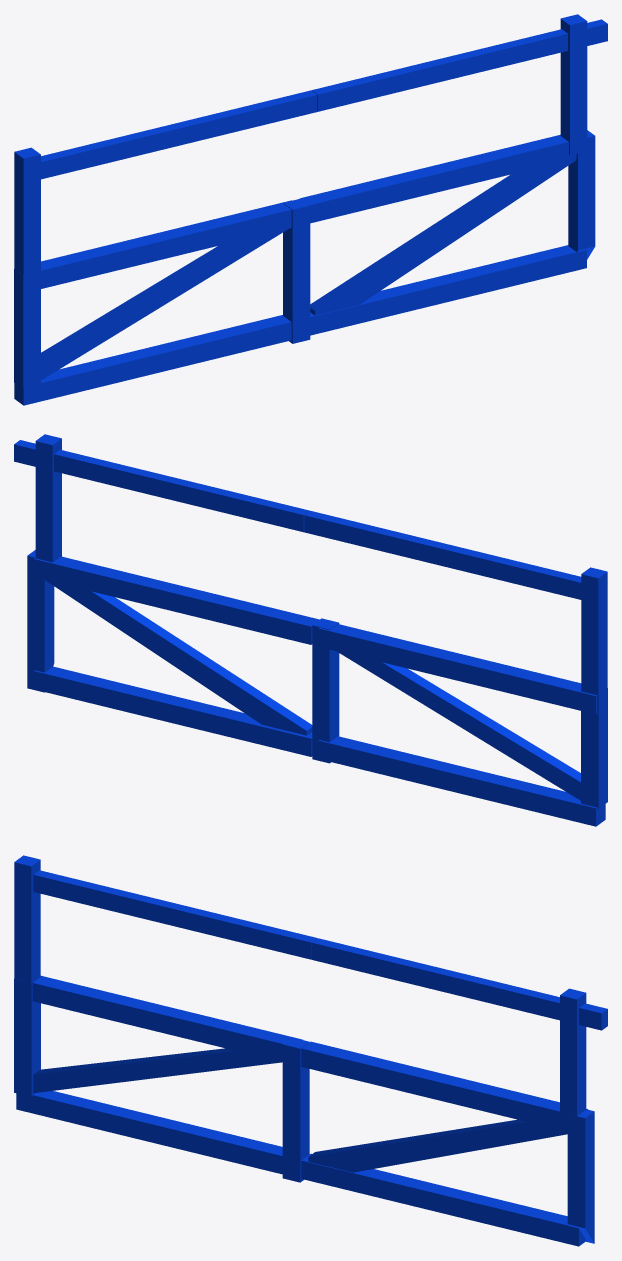
File: Bastion_Wall_Half_01A.fbx
3 renders of one model, top to bottom at view 1: azimuth 30°, elevation 25°; view 2: azimuth 150°, elevation 25°; view 3: azimuth 330°, elevation 25°, orthographic.
Parts seen in each view (by area): view 1: Bastion_Wall_Half_01A; view 2: Bastion_Wall_Half_01A; view 3: Bastion_Wall_Half_01A.
Part boxes in pixels (x1,y1,x2,y2): Bastion_Wall_Half_01A: (14,14,607,405); Bastion_Wall_Half_01A: (14,434,607,826); Bastion_Wall_Half_01A: (14,855,607,1246).
Bounding box in the file's own units: 632 × 258 × 19.78.
